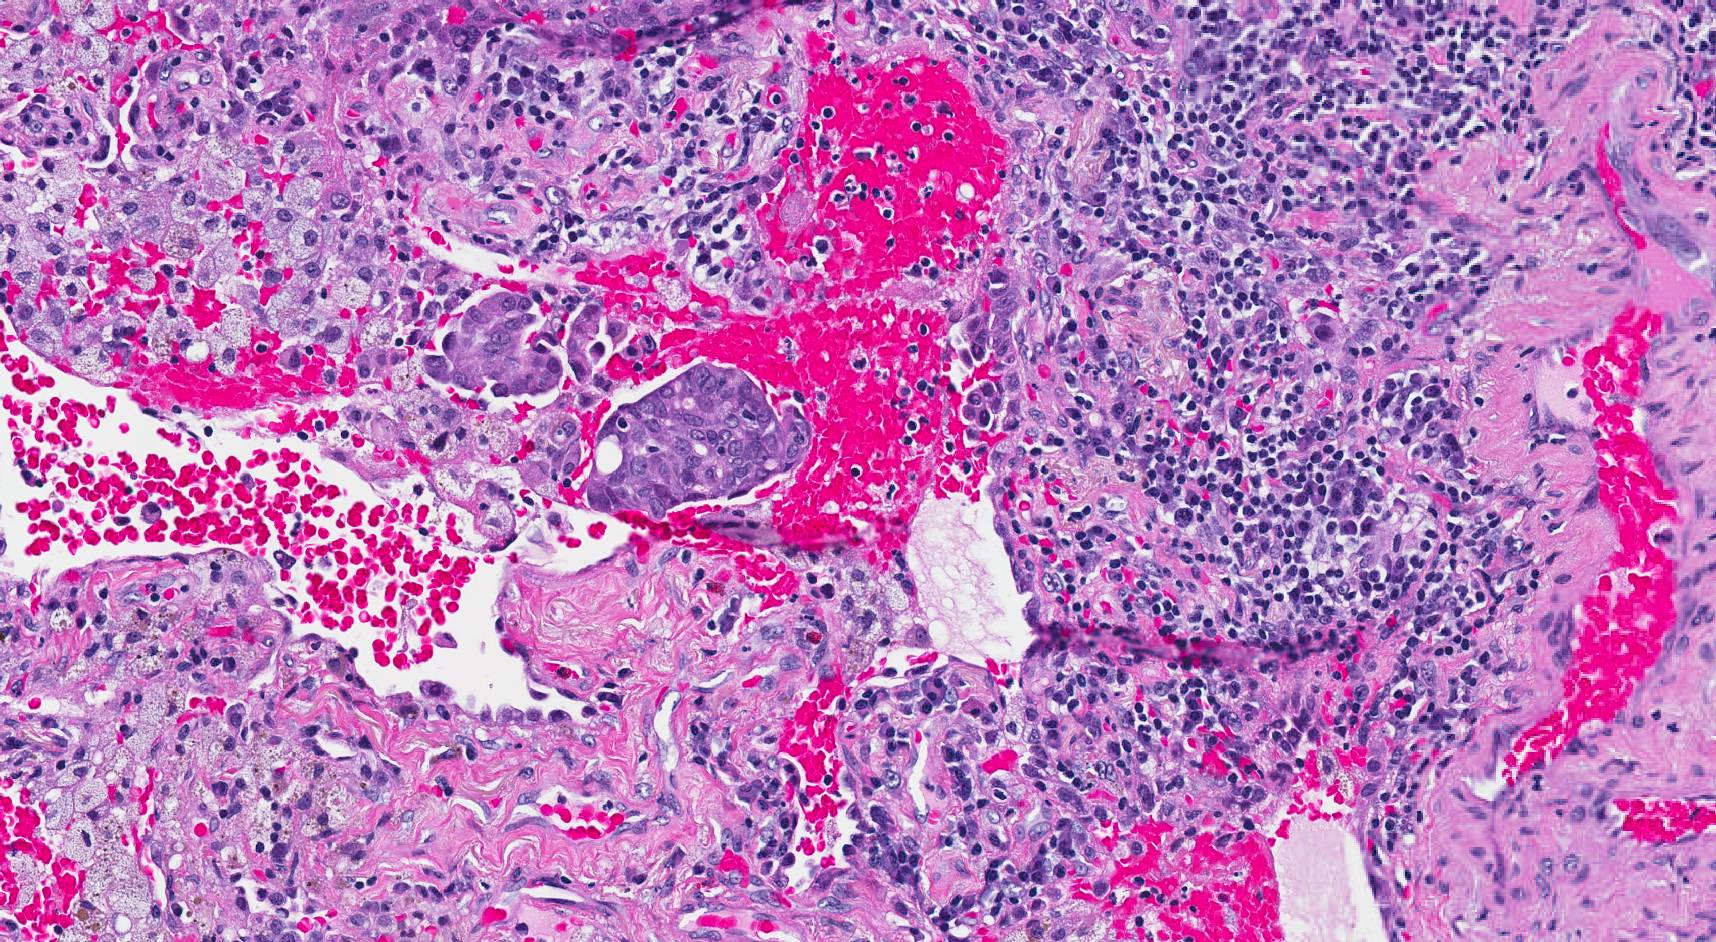stas: (586, 365, 812, 522), (421, 290, 568, 402)
